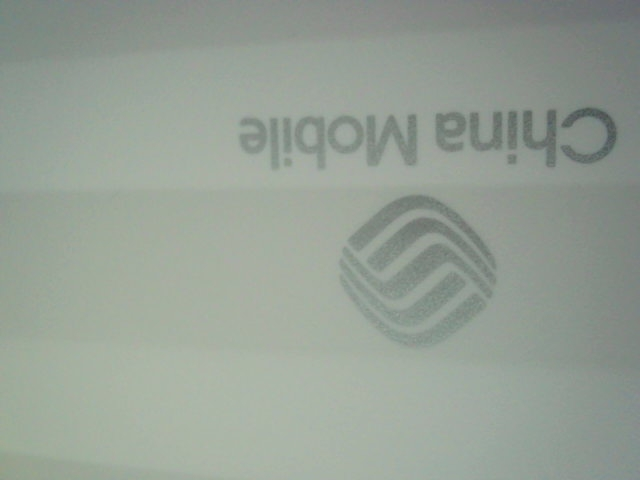AA_ChinaMobile: (225, 86, 622, 352)
